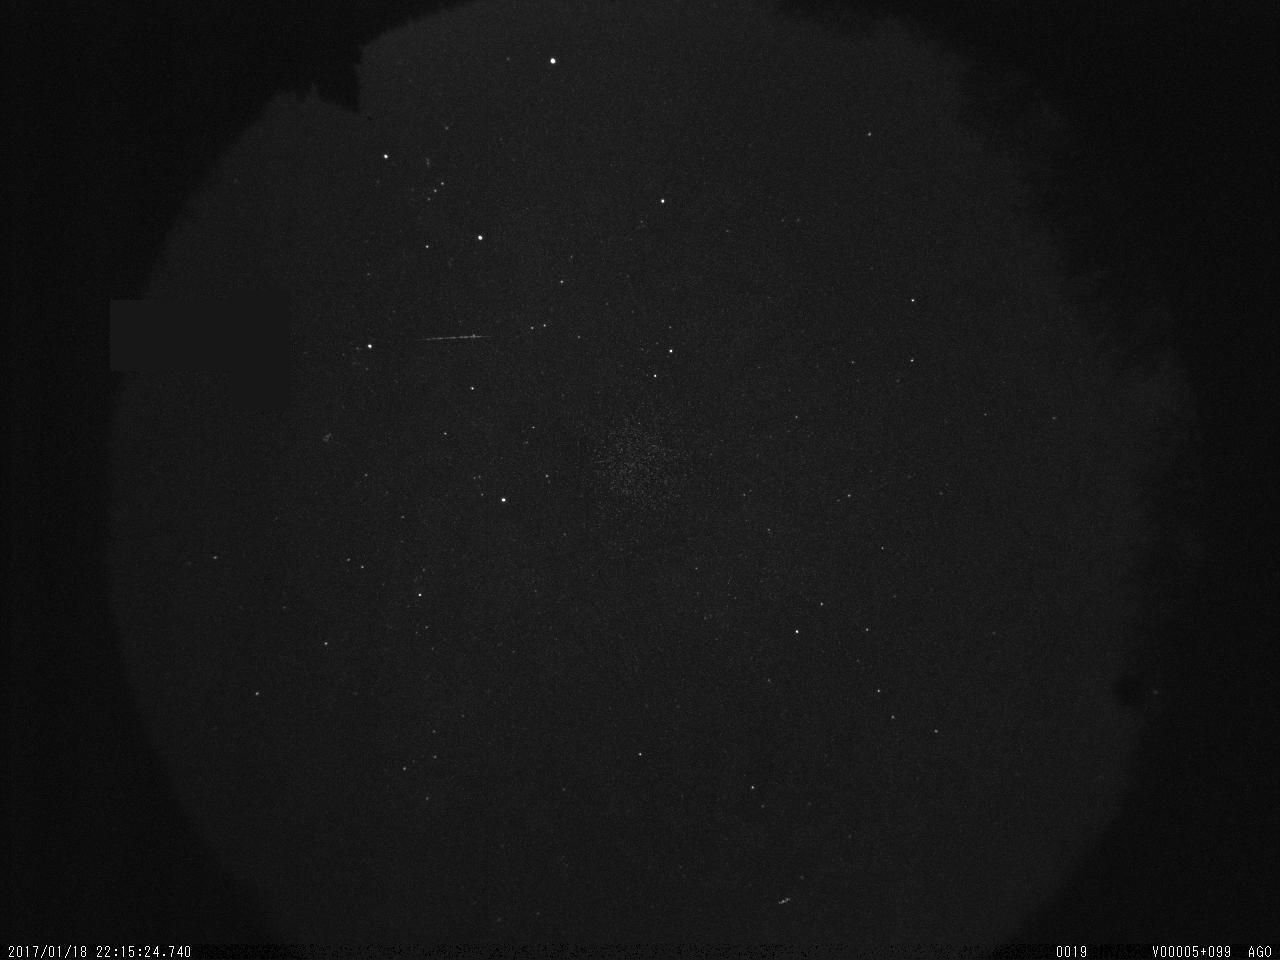Meteor: (405, 322, 506, 348)
